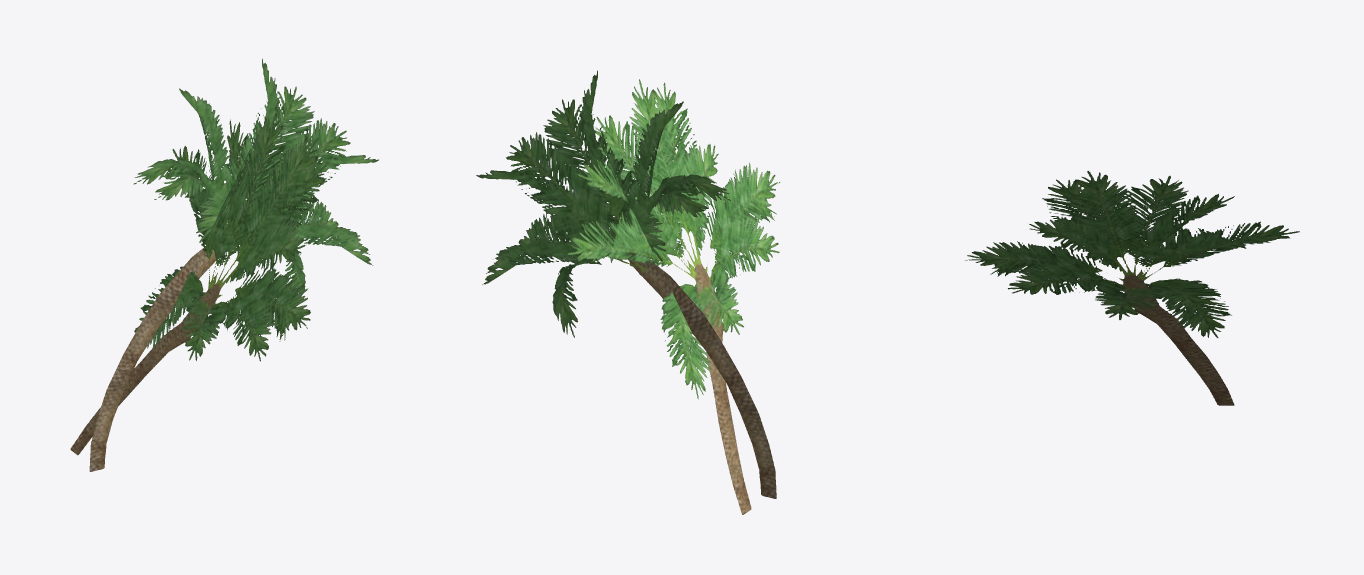
Rendered from HyV3_2s_LOD2.fbx.
3 renders of one model, left to right at view 1: azimuth 30°, elevation 25°; view 2: azimuth 150°, elevation 25°; view 3: azimuth 270°, elevation 25°, orthographic. The views are drawn at different scales.
Parts seen in each view (by area): view 1: HyV3_LOD2; view 2: HyV3_LOD2; view 3: HyV3_LOD2.
Part boxes in pixels (bbox=[...]): HyV3_LOD2: bbox=[70, 58, 378, 471]; HyV3_LOD2: bbox=[476, 70, 780, 514]; HyV3_LOD2: bbox=[965, 171, 1299, 405].
Size of the model in its own units: 1055 by 1071 by 1073.
